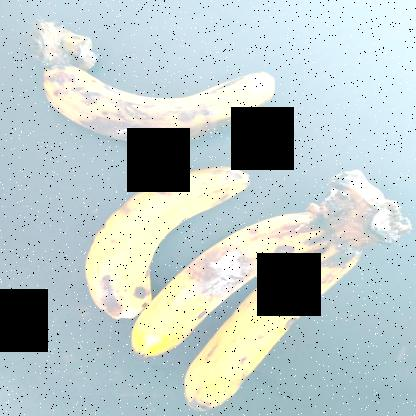overripe: (176, 244, 370, 415), (112, 210, 330, 360), (62, 159, 250, 320)
rotten: (35, 36, 286, 154)
